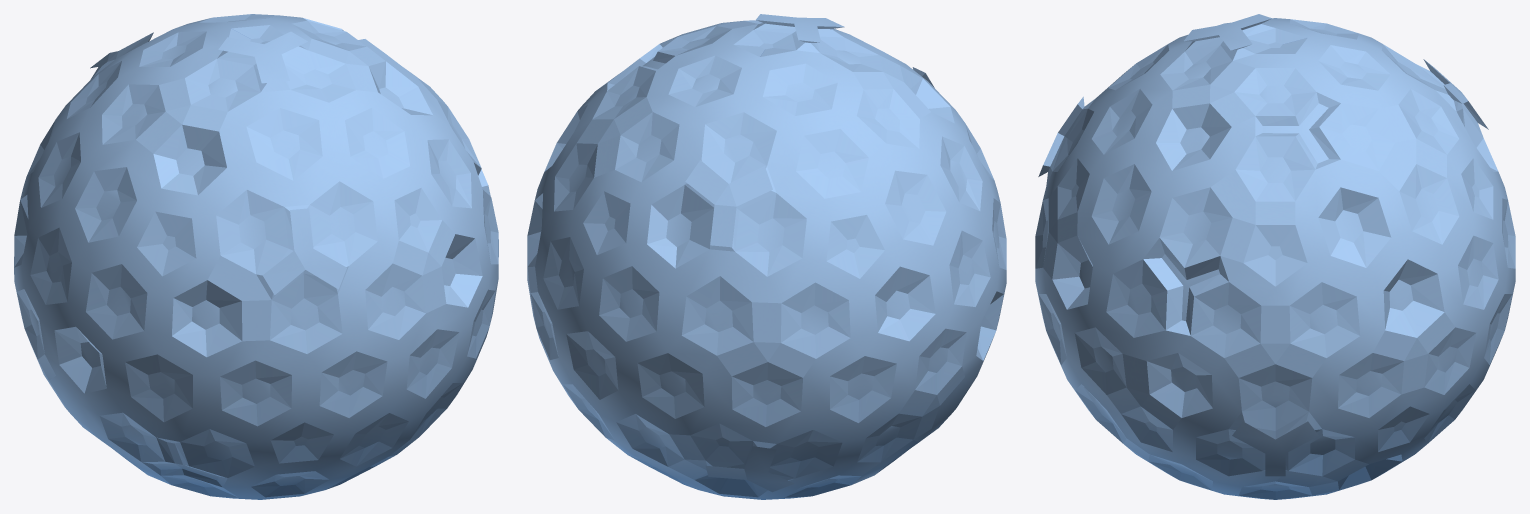
Rendered from Wate_Planet_Stage2.FBX.
3 renders of one model, left to right at view 1: azimuth 30°, elevation 25°; view 2: azimuth 150°, elevation 25°; view 3: azimuth 270°, elevation 25°, orthographic.
Parts seen in each view (by area): view 1: Water_Stage_2; view 2: Water_Stage_2; view 3: Water_Stage_2.
Boxes of the visible parts, <box> form: Water_Stage_2: <box>14,14,498,499</box>; Water_Stage_2: <box>527,14,1006,499</box>; Water_Stage_2: <box>1035,14,1515,499</box>.
Bounding box in the file's own units: 97.58 × 98.88 × 97.23.
Materials: 1 (1 with a texture image).
